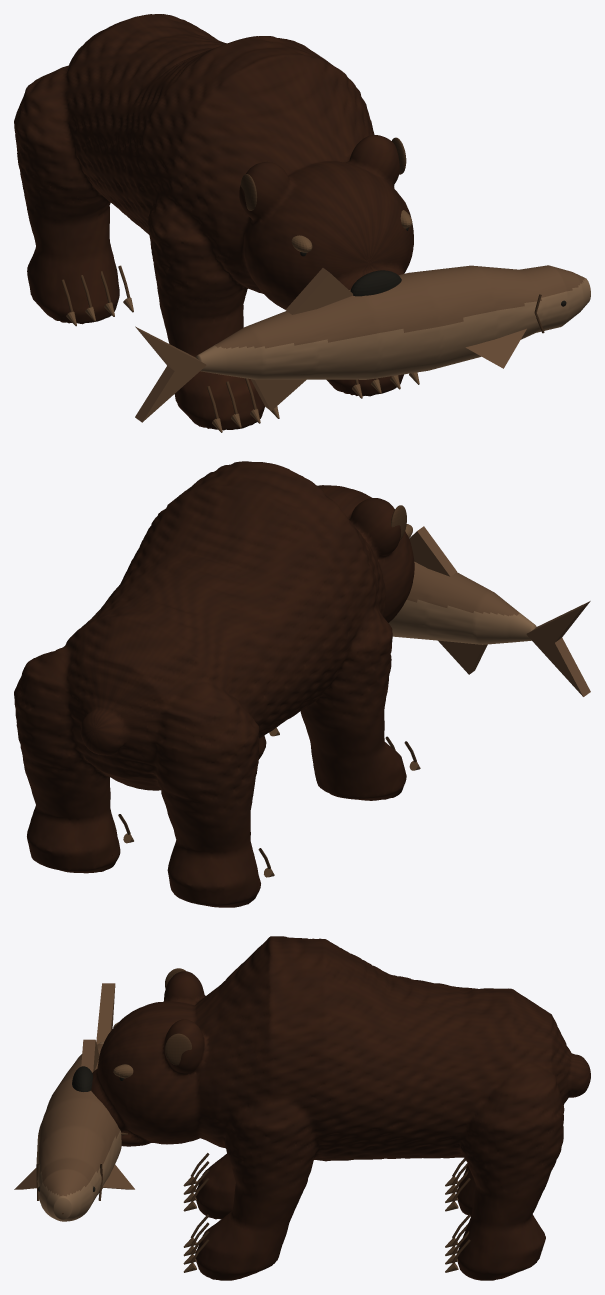
The model's file is hokkaido_bear_official_harness.glb.
3 views of the same model, one above another, from view 1: azimuth 30°, elevation 25°; view 2: azimuth 150°, elevation 25°; view 3: azimuth 270°, elevation 25° (orthographic). The views are drawn at different scales.
Parts seen in each view (by area): view 1: Kuma_Handcarved_OnePiece, Salmon_Tapered_Body, Salmon_Forked_Tail, Salmon_DorsalFin, Salmon_PectoralFin-1, Salmon_AnalFin, Bear_Black_Carved_Nose; view 2: Kuma_Handcarved_OnePiece, Salmon_Tapered_Body, Salmon_Forked_Tail, Salmon_DorsalFin, Salmon_AnalFin; view 3: Kuma_Handcarved_OnePiece, Salmon_Tapered_Body, Salmon_Forked_Tail, EarWell_-1, Salmon_DorsalFin, Bear_Black_Carved_Nose.
Part boxes in pixels (left/top/right/bottom): Kuma_Handcarved_OnePiece: left=14, top=14, right=413, bottom=430; Salmon_Tapered_Body: left=195, top=265, right=590, bottom=379; Salmon_Forked_Tail: left=135, top=326, right=206, bottom=422; Salmon_DorsalFin: left=285, top=268, right=352, bottom=314; Salmon_PectoralFin-1: left=465, top=328, right=526, bottom=368; Salmon_AnalFin: left=250, top=379, right=306, bottom=410; Bear_Black_Carved_Nose: left=350, top=270, right=401, bottom=296; Kuma_Handcarved_OnePiece: left=14, top=461, right=414, bottom=907; Salmon_Tapered_Body: left=388, top=561, right=536, bottom=644; Salmon_Forked_Tail: left=526, top=601, right=590, bottom=696; Salmon_DorsalFin: left=409, top=526, right=456, bottom=576; Salmon_AnalFin: left=438, top=640, right=487, bottom=674; Kuma_Handcarved_OnePiece: left=91, top=936, right=590, bottom=1280; Salmon_Tapered_Body: left=36, top=1042, right=121, bottom=1221; Salmon_Forked_Tail: left=96, top=983, right=115, bottom=1044; EarWell_-1: left=165, top=1033, right=191, bottom=1065; Salmon_DorsalFin: left=81, top=1039, right=99, bottom=1072; Bear_Black_Carved_Nose: left=72, top=1066, right=92, bottom=1091.
Bounding box in the file's own units: 2.62 × 1.93 × 3.46.
Materials: 7 (1 with a texture image).
